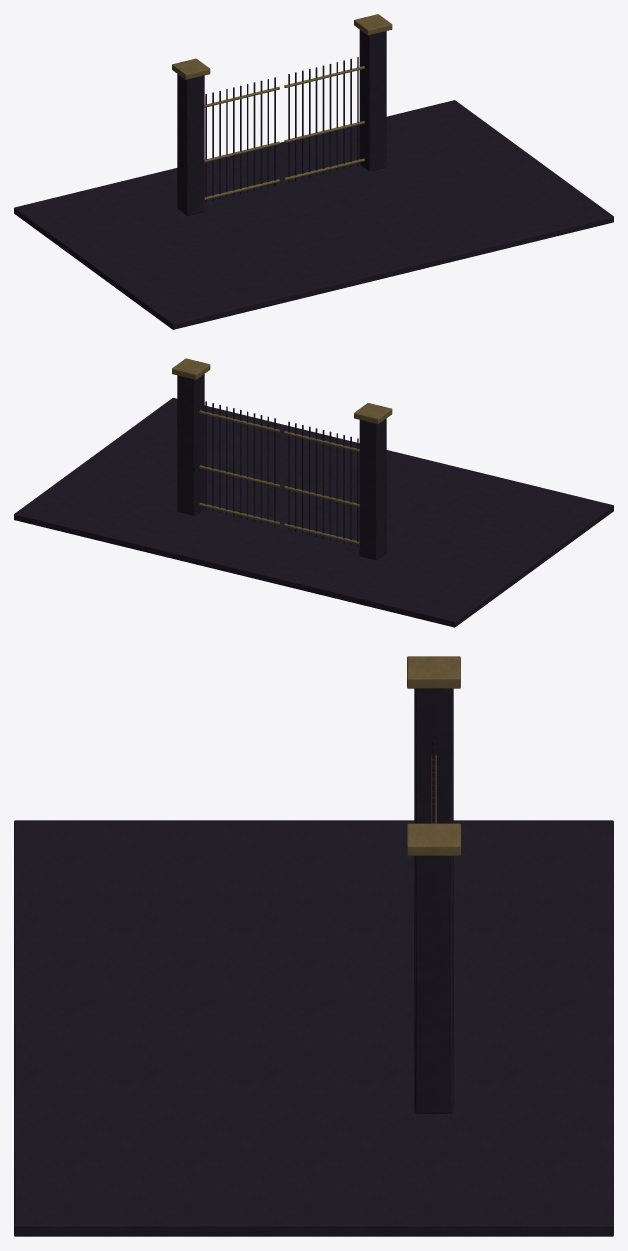
The model's file is explore3d__finish_park_main_gate.glb.
3 views of the same model, one above another, from view 1: azimuth 30°, elevation 25°; view 2: azimuth 150°, elevation 25°; view 3: azimuth 270°, elevation 25° (orthographic). The views are drawn at different scales.
Visible parts, largest first — view 1: exterior_column_cap; view 2: exterior_column_cap; view 3: exterior_column_cap.
Boxes of the visible parts, x1,y1,x2,y2 form: exterior_column_cap: (14, 14, 613, 329); exterior_column_cap: (14, 358, 613, 627); exterior_column_cap: (14, 656, 613, 1236).
Size of the model in its own units: 16 by 5.22 by 10.
2 materials, 2 textured.
